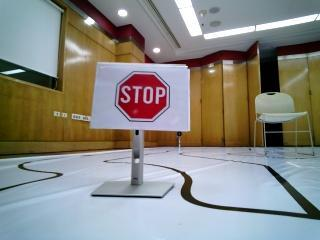stop: (96, 68, 183, 130)
